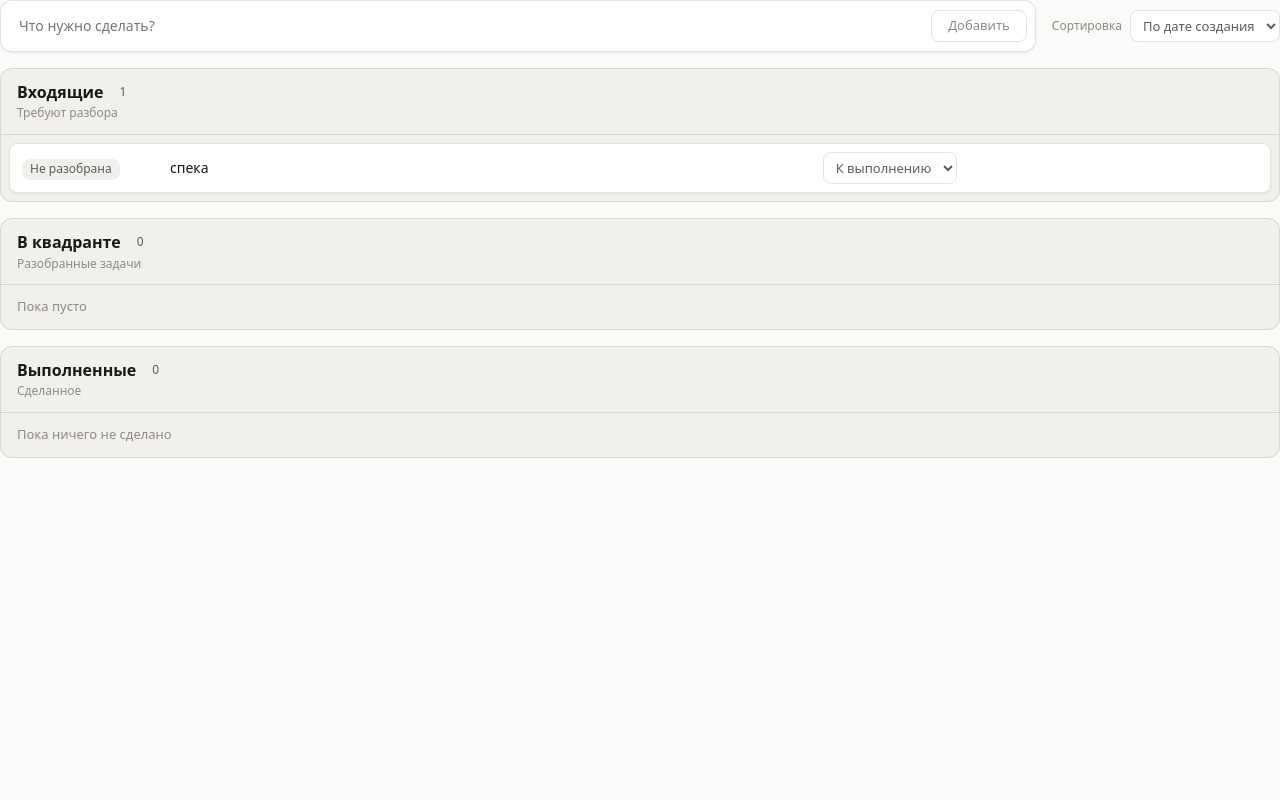
Test: правка задачи в окне › описание сохраняется по потере фокуса
Click the element "спека".
click(640, 168)  # box [9,143,1271,193]
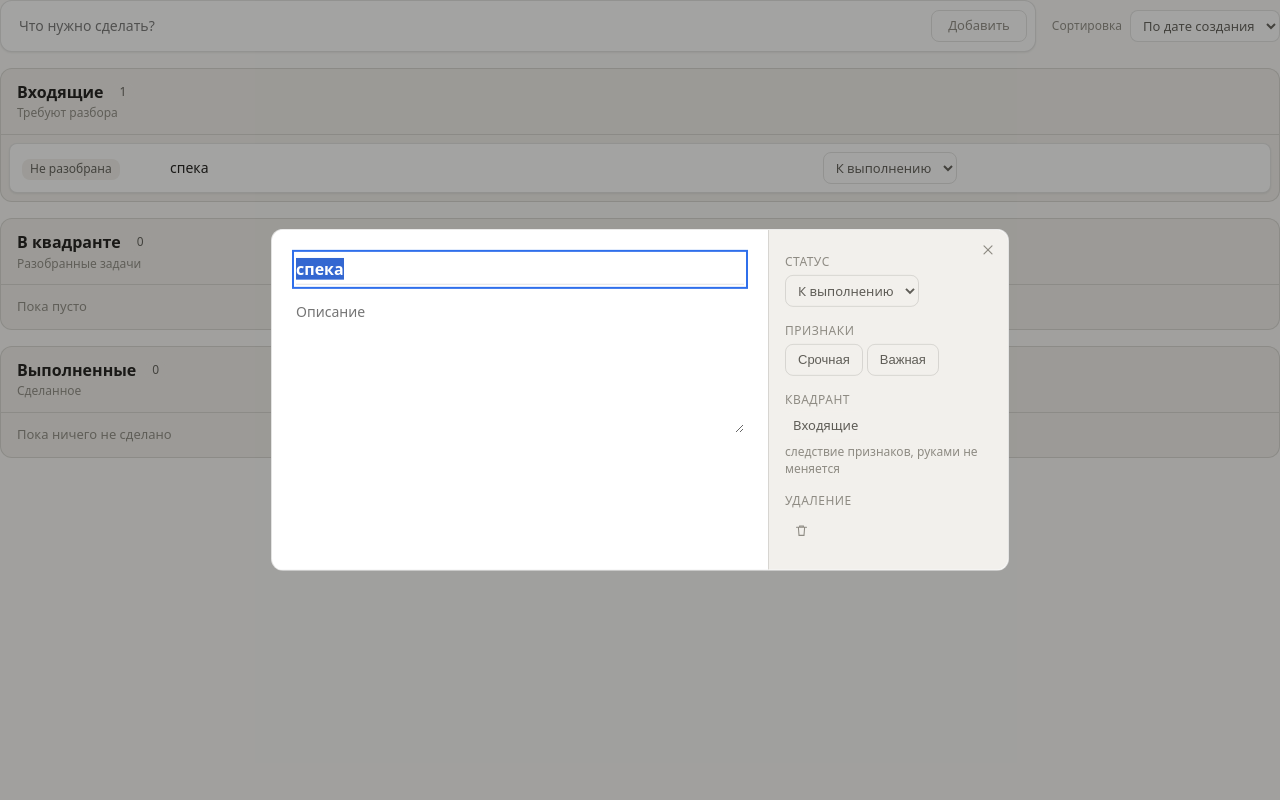
Type "скоуп, инварианты, критерии" into the text box labelled "Описание".
click(520, 366); type("скоуп, инварианты, критерии")  # box [296,297,744,434]
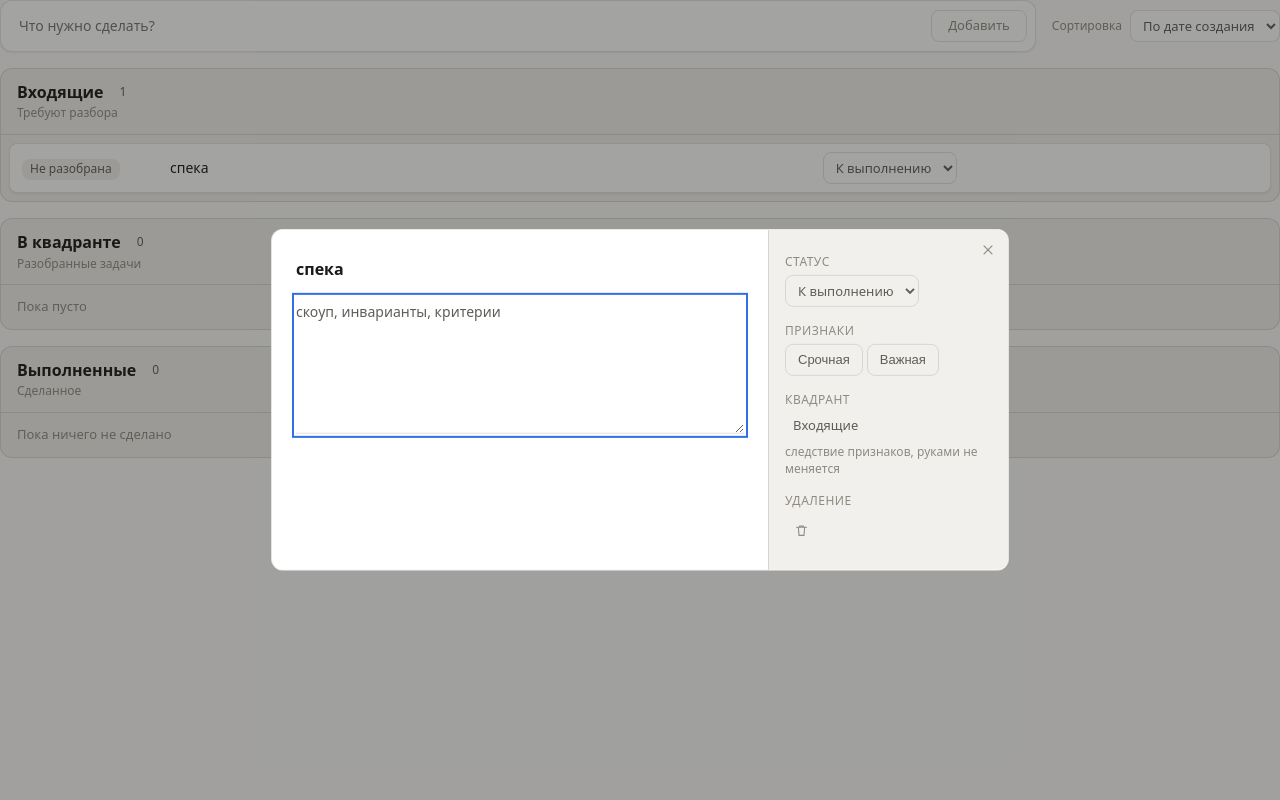
Press Escape
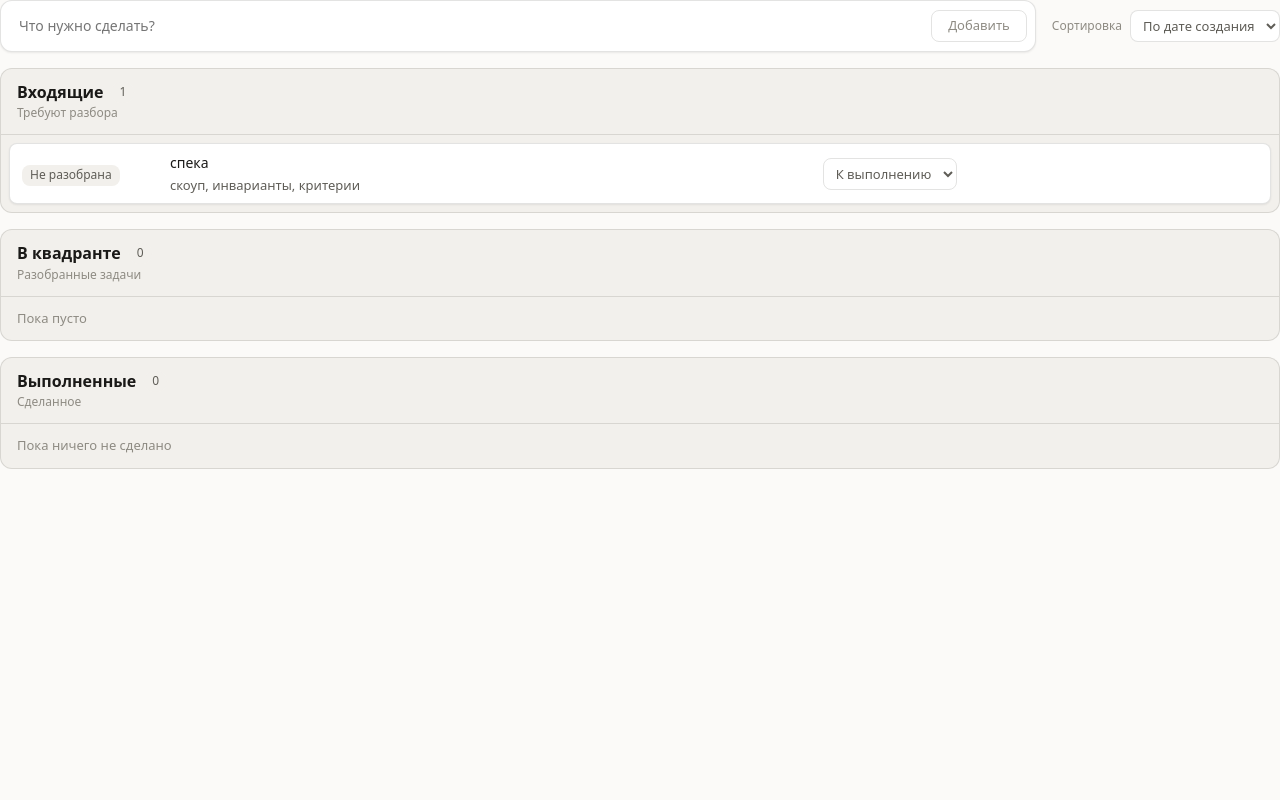
Now the text "скоуп, инварианты, критерии" is shown, box [170,176,360,194]
